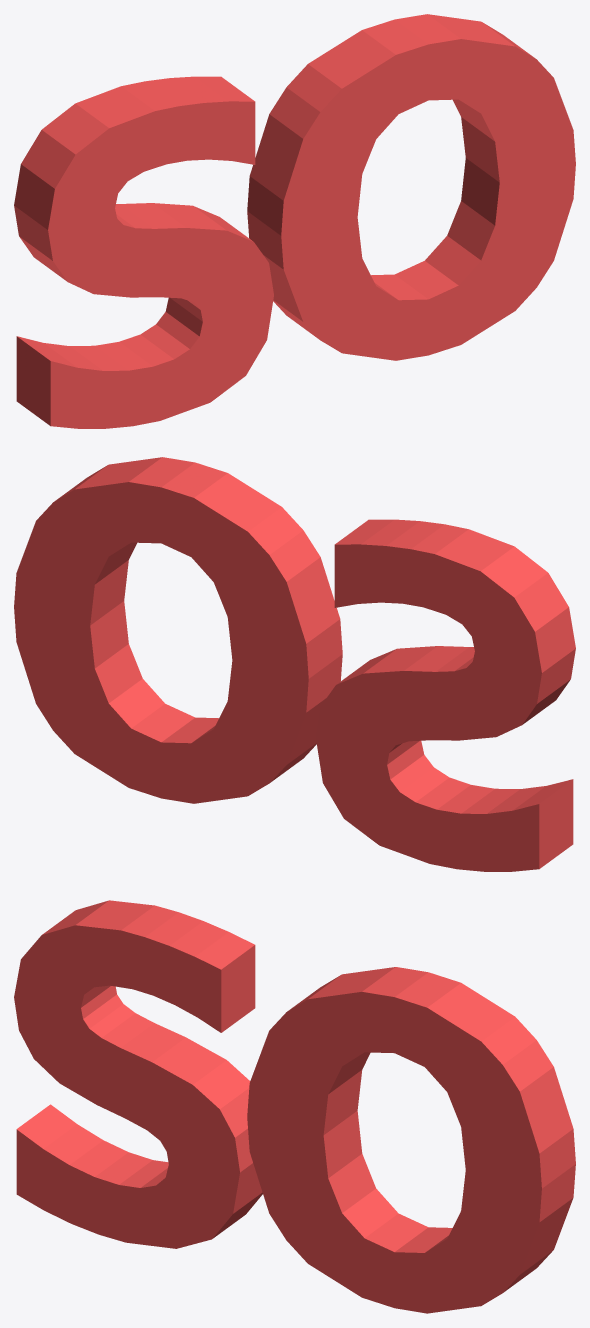
File: suku_besar_so.glb
The picture shows the model from 3 angles, top to bottom: view 1: azimuth 30°, elevation 25°; view 2: azimuth 150°, elevation 25°; view 3: azimuth 330°, elevation 25°; orthographic projection.
Parts seen in each view (by area): view 1: geometry_0; view 2: geometry_0; view 3: geometry_0.
Part boxes in pixels (x1,y1,x2,y2): geometry_0: (14,14,575,428); geometry_0: (14,457,575,871); geometry_0: (14,900,575,1313).
Size of the model in its own units: 13.43 by 7.56 by 1.5.
